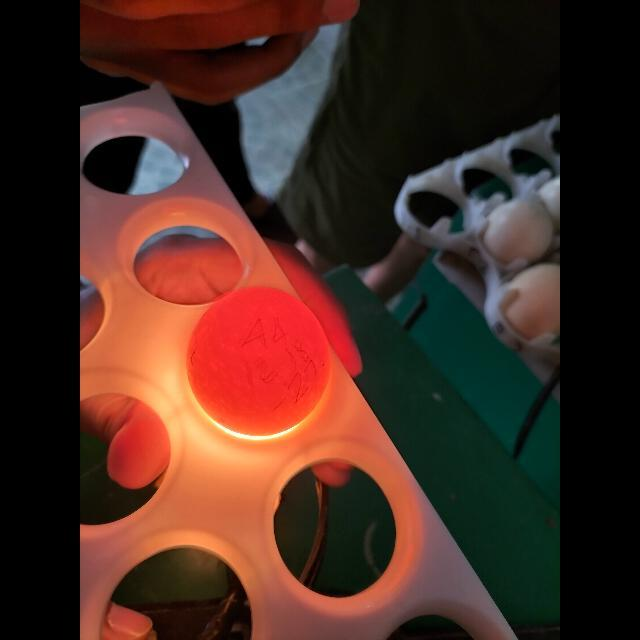Infertile: (186, 284, 338, 436)
